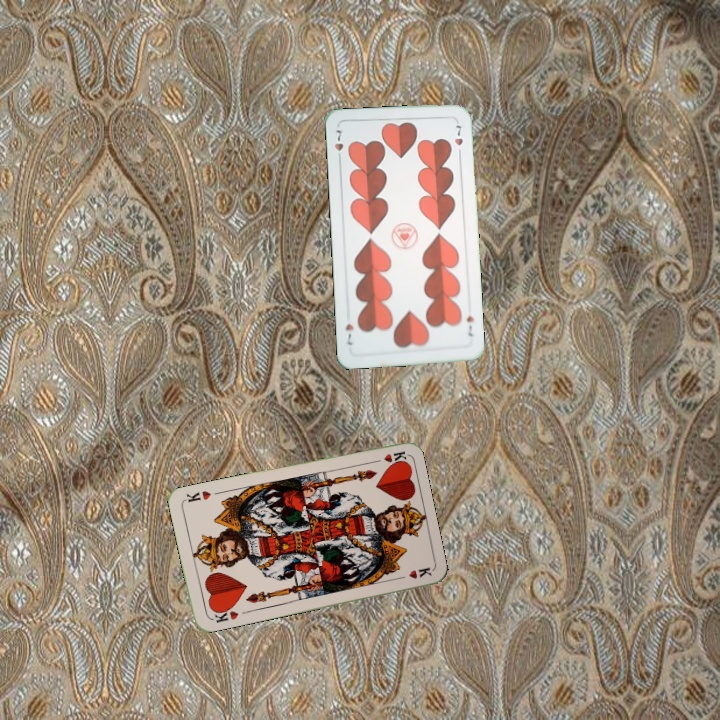H7: (330, 126, 346, 164), (463, 312, 477, 339)
HK: (367, 447, 408, 466), (207, 603, 241, 625)
